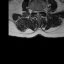CCS_normal: (37, 9, 38, 16)
LFS_normal: (40, 8, 42, 13)
LLS_stenosis: (38, 8, 40, 15)
RFS_normal: (33, 8, 35, 14)
RLS_stenosis: (35, 9, 37, 14)
